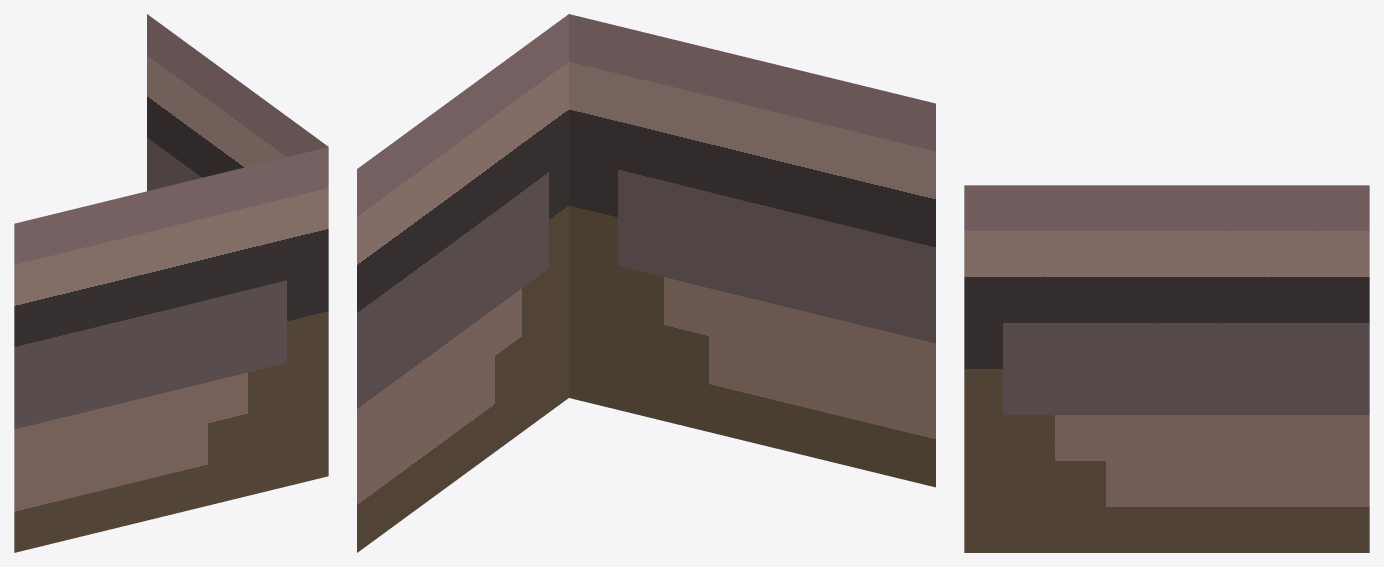
The picture shows the model from 3 angles, left to right: view 1: azimuth 30°, elevation 25°; view 2: azimuth 150°, elevation 25°; view 3: azimuth 270°, elevation 25°; orthographic projection. The views are drawn at different scales.
Size of the model in its own units: 0.5 by 0.5 by 0.5.
Materials: 1 (1 with a texture image).
